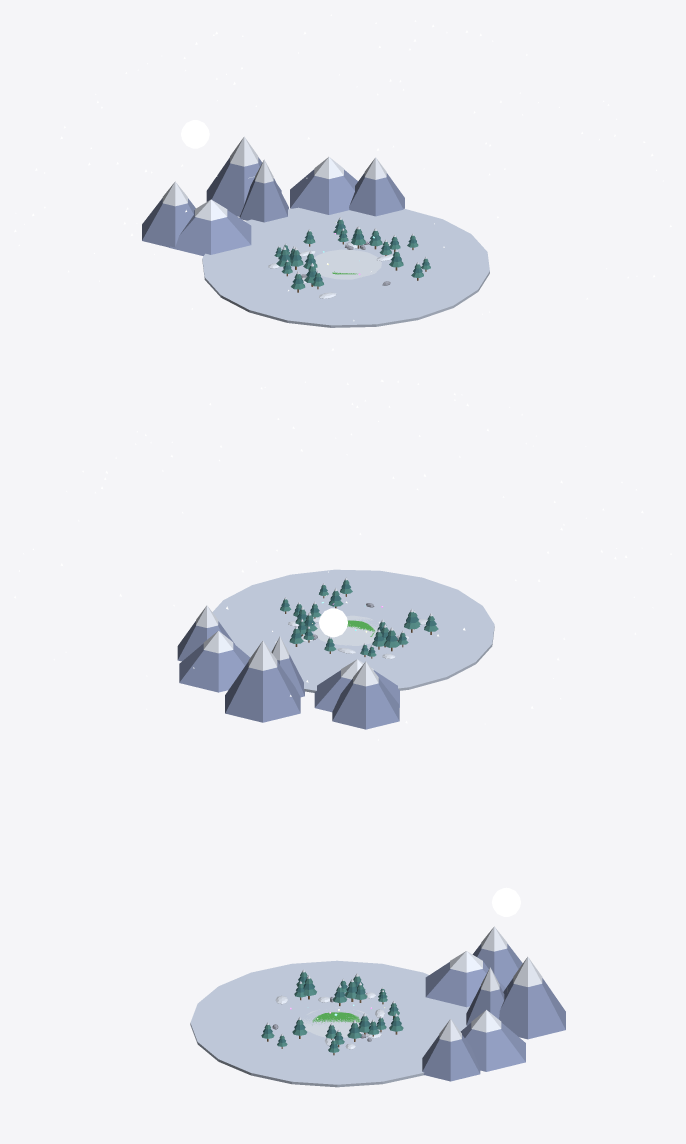
File: cold_world.glb
3 views of the same model, one above another, from view 1: azimuth 30°, elevation 25°; view 2: azimuth 150°, elevation 25°; view 3: azimuth 270°, elevation 25° (orthographic).
Visible parts, largest first — view 1: ground, mountain_2, mountain_5, mountain_4, mountain_1, mountain_0, clearing, mountain_3, moon, mountain_cap_4, mountain_cap_2; view 2: ground, mountain_4, mountain_0, mountain_5, mountain_2, clearing, mountain_1, moon, mountain_cap_4; view 3: ground, mountain_4, mountain_5, mountain_1, mountain_2, mountain_0, mountain_3, clearing, moon, mountain_cap_4.
Part boxes in pixels (left/top/right/bottom): ground: left=202, top=207, right=489, bottom=327; mountain_2: left=169, top=210, right=251, bottom=256; mountain_5: left=290, top=169, right=357, bottom=214; mountain_4: left=206, top=157, right=281, bottom=216; mountain_1: left=349, top=173, right=404, bottom=216; mountain_0: left=142, top=198, right=195, bottom=247; clearing: left=314, top=249, right=381, bottom=279; mountain_3: left=239, top=178, right=288, bottom=222; moon: left=181, top=120, right=209, bottom=148; mountain_cap_4: left=230, top=136, right=258, bottom=166; mountain_cap_2: left=195, top=199, right=227, bottom=220; ground: left=212, top=569, right=494, bottom=692; mountain_4: left=225, top=661, right=300, bottom=722; mountain_0: left=332, top=678, right=399, bottom=729; mountain_5: left=179, top=643, right=250, bottom=692; mountain_2: left=314, top=670, right=399, bottom=712; clearing: left=314, top=615, right=379, bottom=645; mountain_1: left=177, top=621, right=234, bottom=661; moon: left=319, top=608, right=347, bottom=637; mountain_cap_4: left=248, top=641, right=277, bottom=670; ground: left=190, top=960, right=469, bottom=1087; mountain_4: left=499, top=978, right=565, bottom=1039; mountain_5: left=460, top=1022, right=525, bottom=1071; mountain_1: left=422, top=1035, right=480, bottom=1081; mountain_2: left=425, top=962, right=505, bottom=1007; mountain_0: left=472, top=943, right=522, bottom=987; mountain_3: left=466, top=986, right=504, bottom=1025; clearing: left=303, top=1007, right=371, bottom=1037; moon: left=492, top=887, right=520, bottom=916; mountain_cap_4: left=513, top=956, right=542, bottom=986.
Bounding box in the file's own units: 117 × 40.31 × 117.
